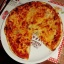pizza: (7, 2, 61, 56)
